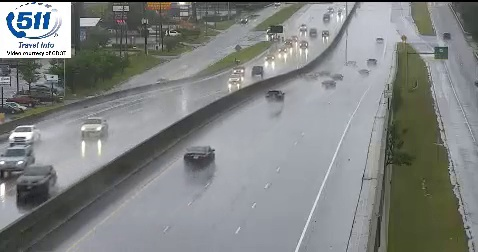car: (183, 145, 214, 166), (265, 90, 284, 103)
